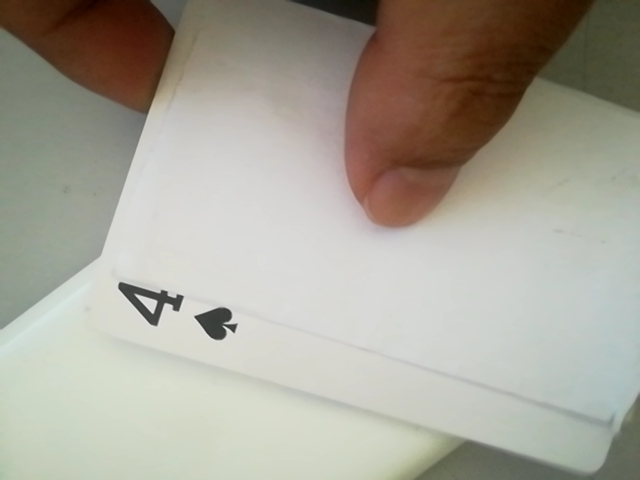ht 4: (98, 276, 259, 356)
